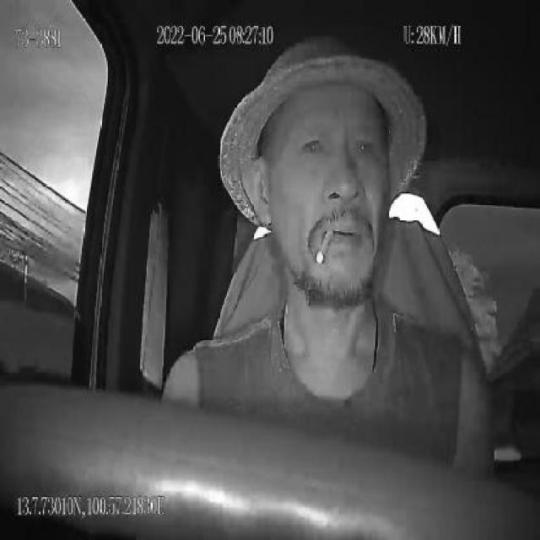smoking: (313, 227, 334, 267)
